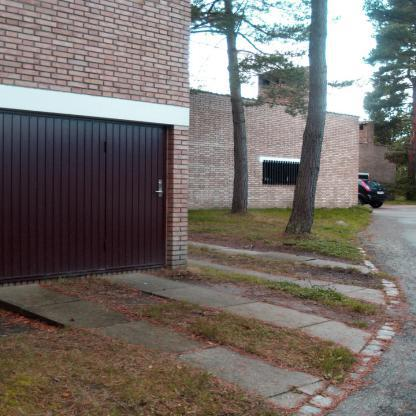door: (104, 125, 166, 267)
hinged: (104, 140, 109, 152)
lever: (154, 190, 164, 194)
